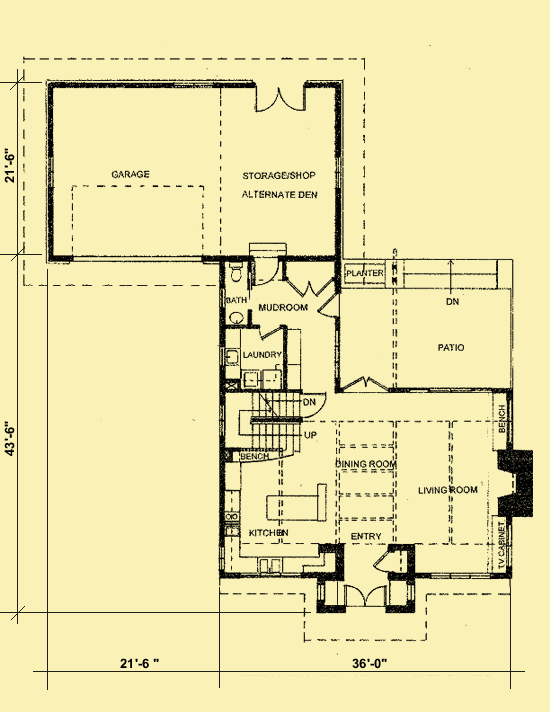door: (252, 79, 310, 116), (340, 581, 389, 611), (343, 370, 391, 399), (282, 274, 333, 301), (253, 250, 279, 286), (315, 289, 341, 325), (367, 549, 393, 576), (256, 317, 282, 343)
kitchen bar: (261, 481, 330, 522)
large sink: (220, 258, 246, 288)
small sink: (225, 306, 250, 331)
stairs: (222, 389, 314, 453), (400, 252, 502, 308)
twin sink: (255, 554, 286, 572)
windows: (426, 567, 492, 585), (39, 149, 61, 191), (326, 148, 349, 188), (425, 384, 495, 396), (214, 538, 231, 570)
